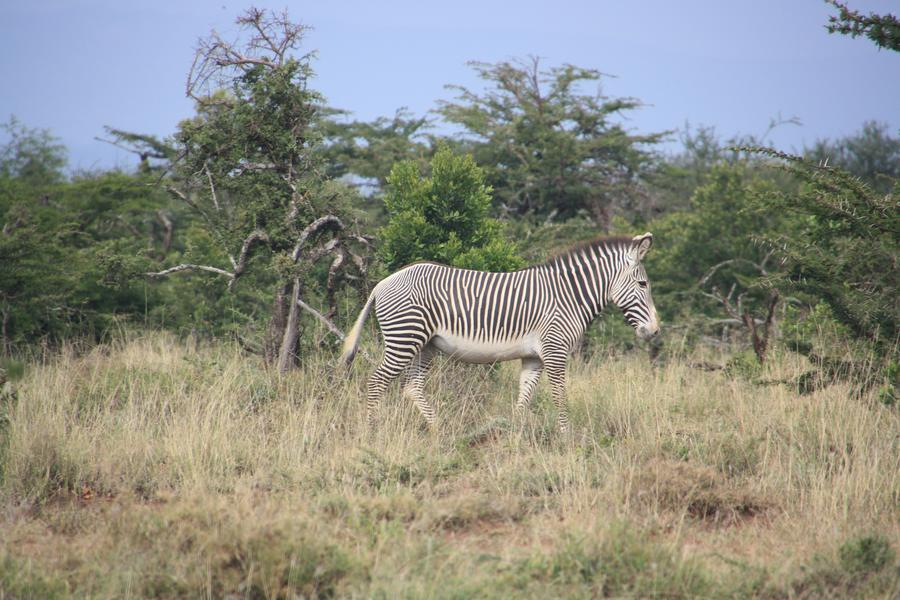zebra_grevys: (374, 243, 575, 359)
